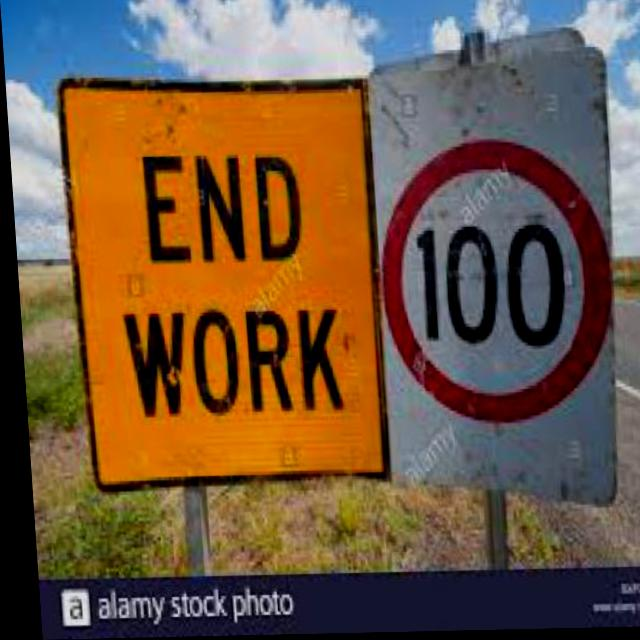limit100: (364, 133, 625, 430)
